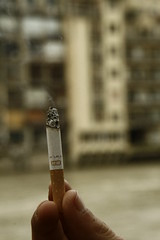cigarette: (42, 104, 69, 216)
